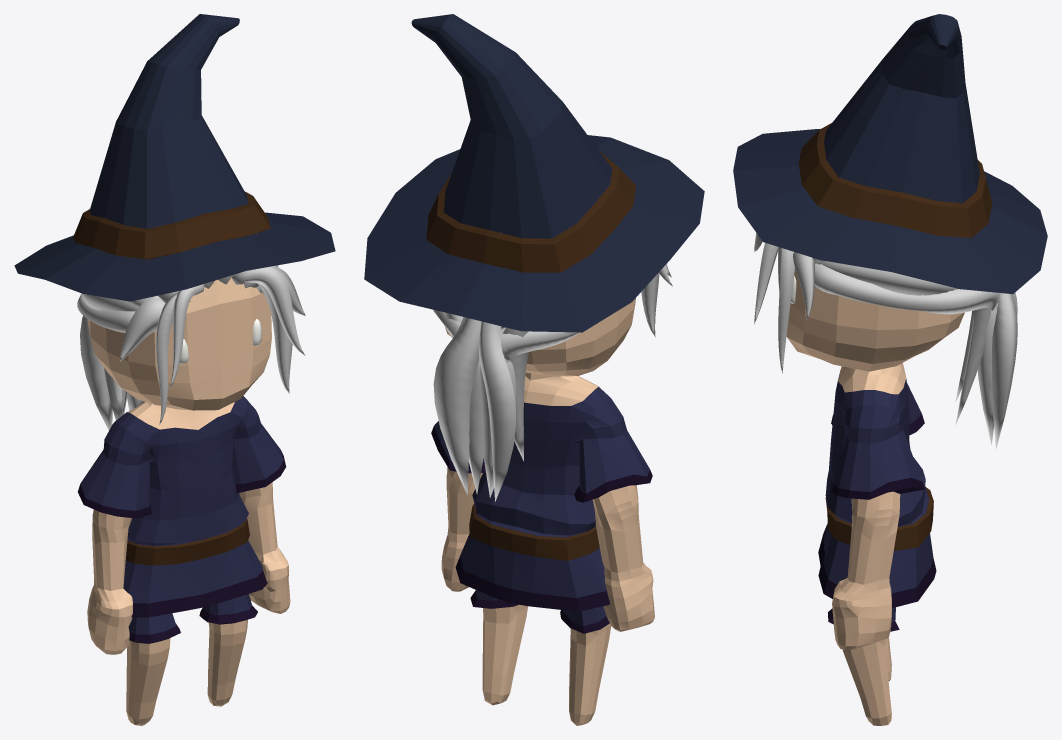
Rendered from debout-witch.glb.
3 views of the same model, side by side, from view 1: azimuth 30°, elevation 25°; view 2: azimuth 150°, elevation 25°; view 3: azimuth 270°, elevation 25° (orthographic). The views are drawn at different scales.
Visible parts, largest first — view 1: Cube004_4, Cube004, Cube004_1, Cube004_5, Cube004_2, Cube004_3; view 2: Cube004_4, Cube004_1, Cube004, Cube004_5, Cube004_2, Cube004_3; view 3: Cube004_4, Cube004, Cube004_5, Cube004_1, Cube004_2, Cube004_3.
Part boxes in pixels (bbox=[...]): Cube004_4: bbox=[14, 14, 335, 301]; Cube004: bbox=[87, 277, 290, 725]; Cube004_1: bbox=[80, 396, 283, 634]; Cube004_5: bbox=[77, 265, 305, 430]; Cube004_2: bbox=[73, 191, 270, 565]; Cube004_3: bbox=[78, 451, 286, 643]; Cube004_4: bbox=[364, 14, 704, 332]; Cube004_1: bbox=[434, 386, 649, 625]; Cube004: bbox=[441, 298, 654, 725]; Cube004_5: bbox=[433, 264, 672, 501]; Cube004_2: bbox=[426, 152, 635, 560]; Cube004_3: bbox=[431, 426, 652, 633]; Cube004_4: bbox=[733, 14, 1047, 293]; Cube004: bbox=[786, 268, 964, 725]; Cube004_5: bbox=[753, 233, 1017, 449]; Cube004_1: bbox=[823, 370, 933, 622]; Cube004_2: bbox=[798, 123, 992, 550]; Cube004_3: bbox=[818, 414, 936, 631].
Size of the model in its own units: 0.6651 by 1.63 by 0.648.
